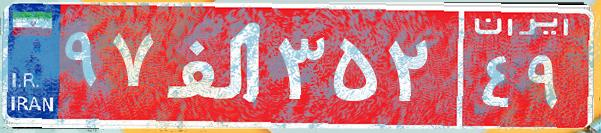2: (385, 28, 445, 110)
3: (273, 28, 330, 110)
4: (475, 38, 525, 113)
5: (330, 28, 385, 110)
7: (110, 28, 158, 105)
9: (57, 26, 110, 107), (525, 38, 570, 115)
الف: (158, 15, 273, 115)
